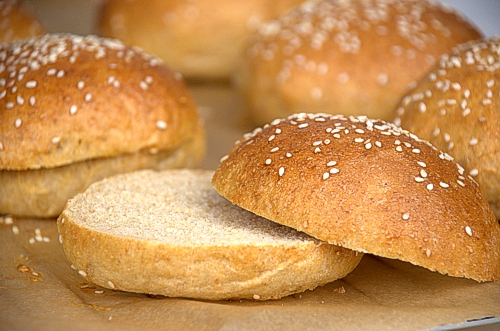hamburger_buns: (60, 110, 500, 305), (230, 3, 500, 147), (1, 44, 210, 193)
